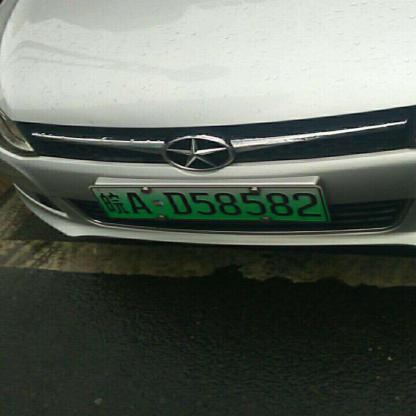lp: (91, 186, 328, 219)
